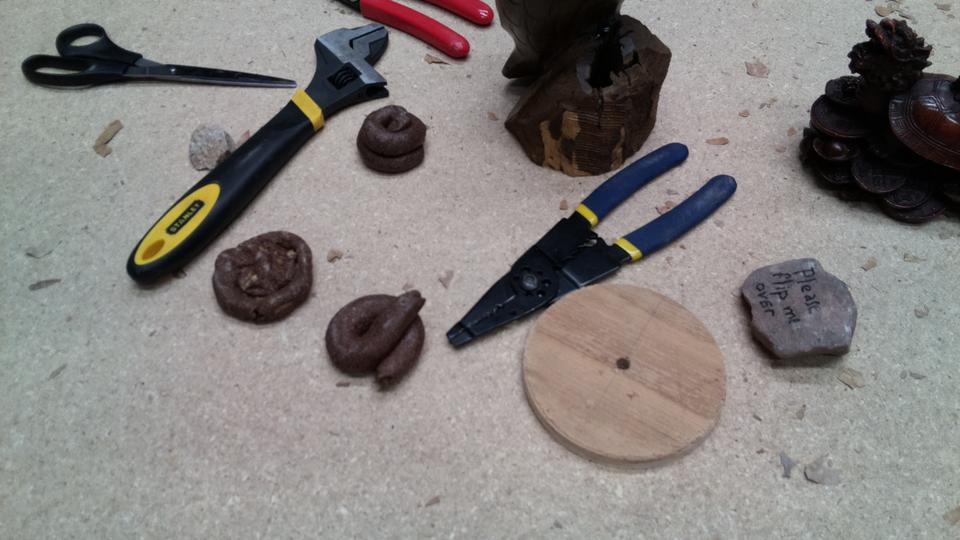poop: (323, 289, 430, 393), (209, 228, 318, 327), (353, 102, 430, 179)
